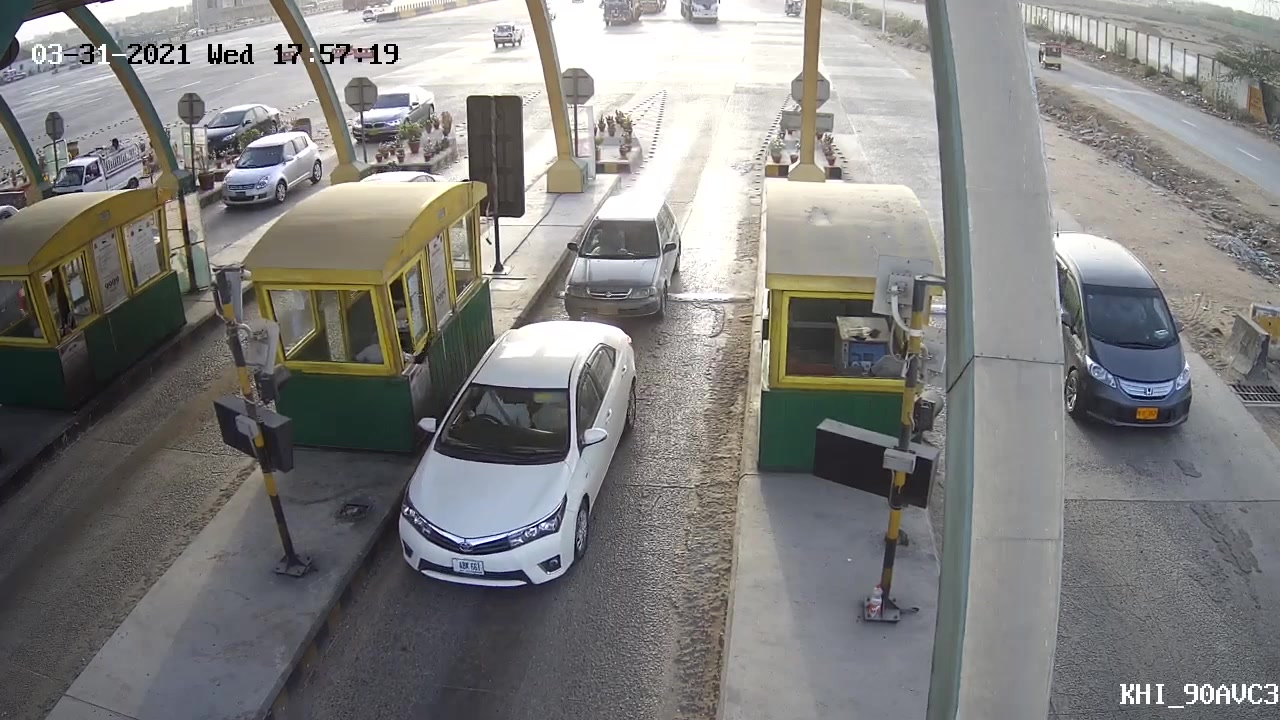F1: (388, 317, 664, 599), (558, 182, 691, 319)
